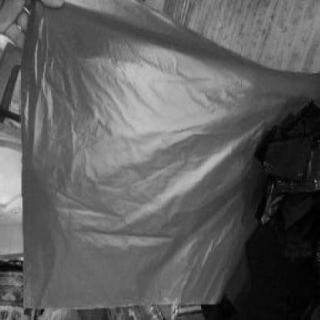objects: (38, 7, 270, 313)
